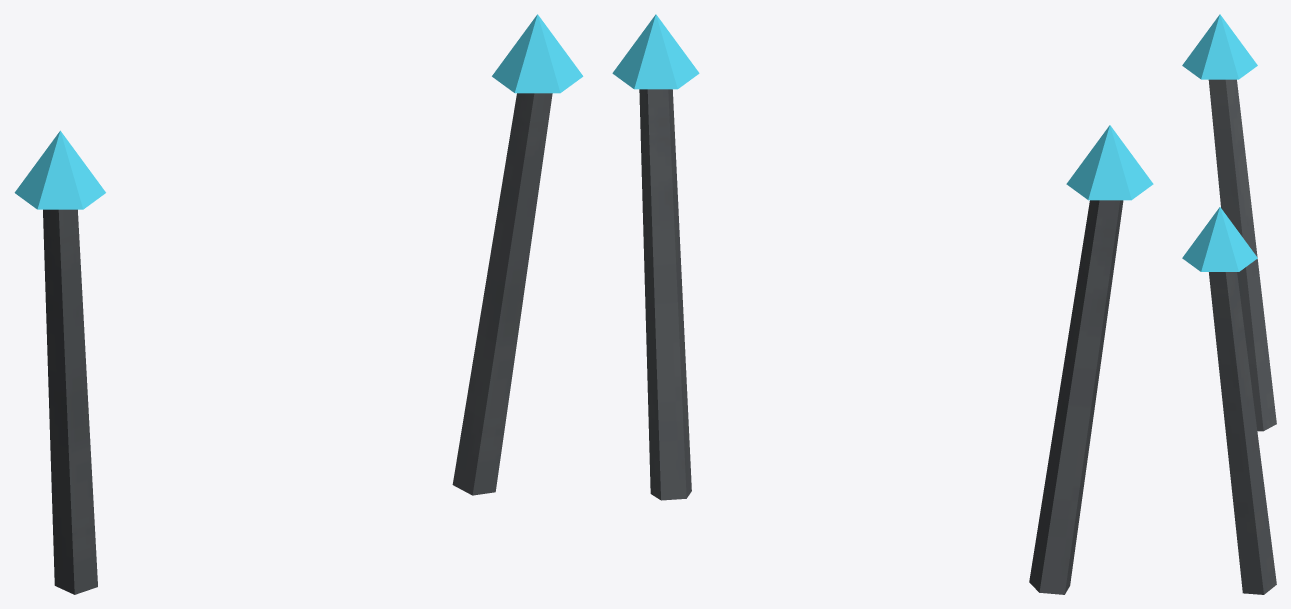
File: acc_antenna.glb
The picture shows the model from 3 angles, left to right: view 1: azimuth 30°, elevation 25°; view 2: azimuth 150°, elevation 25°; view 3: azimuth 270°, elevation 25°; orthographic projection. The views are drawn at different scales.
Visible parts, largest first — view 1: acc_antenna; view 2: acc_antenna; view 3: acc_antenna.
Part boxes in pixels (x1,y1,x2,y2): acc_antenna: (14, 14, 583, 594); acc_antenna: (612, 14, 1153, 594); acc_antenna: (1182, 14, 1276, 594).
Size of the model in its own units: 0.2746 by 0.2314 by 0.05.
Materials: 2 (1 with a texture image).
